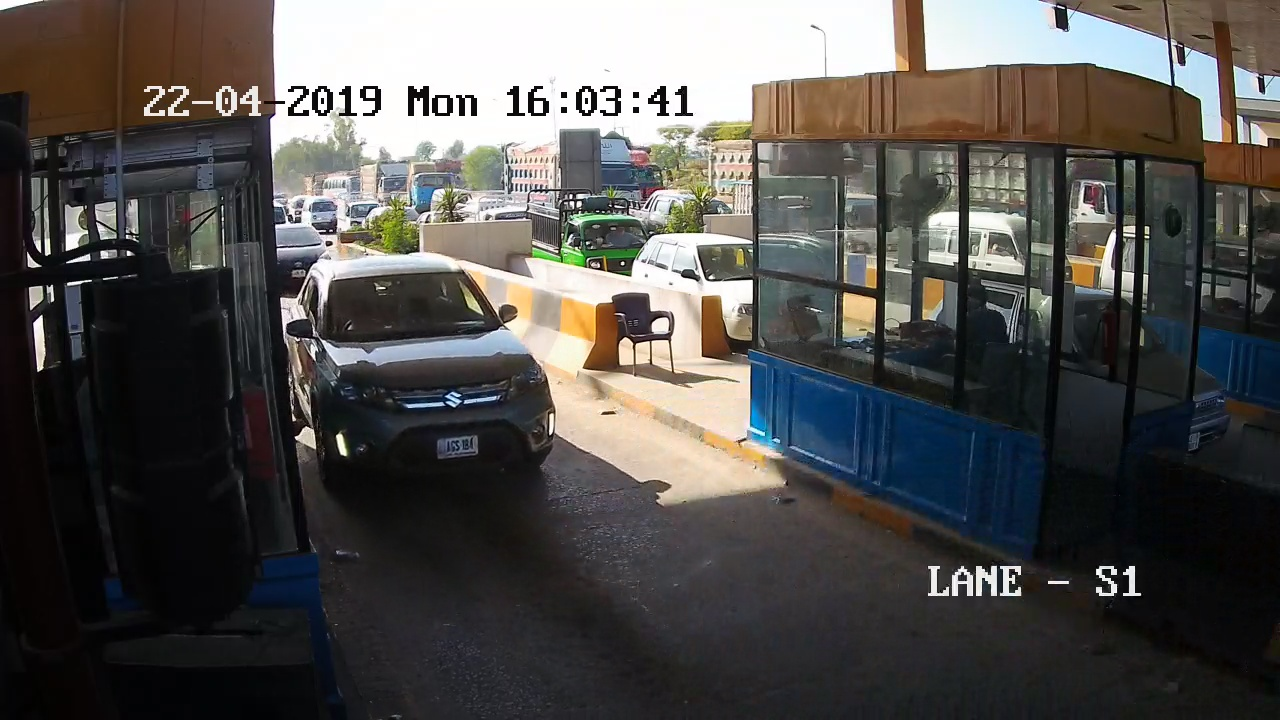Number Plate (Car): (436, 437, 480, 459)
